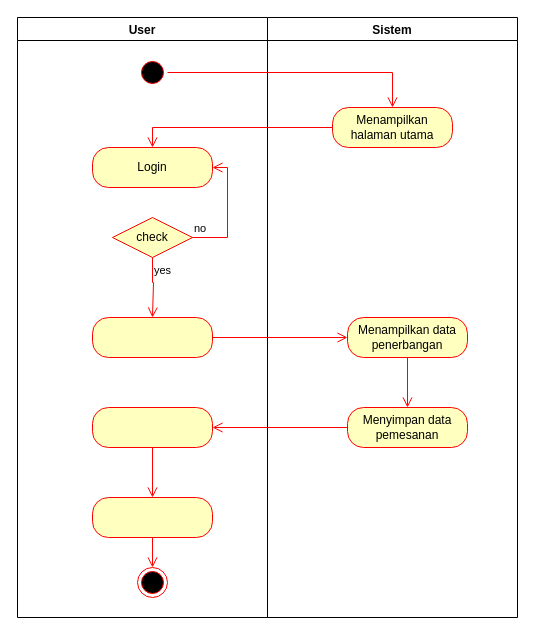
Some shapes in this 535 by 635 pixel diagram are drawn without their labels. The box of each missing label's shape, as (x1, y1, x2, y2) in pixels:
Memilih maskapai: (92, 406, 212, 448)
Menampilkan data pemesanan: (92, 496, 212, 538)
Mengisi destination penerbangan: (92, 316, 212, 358)
